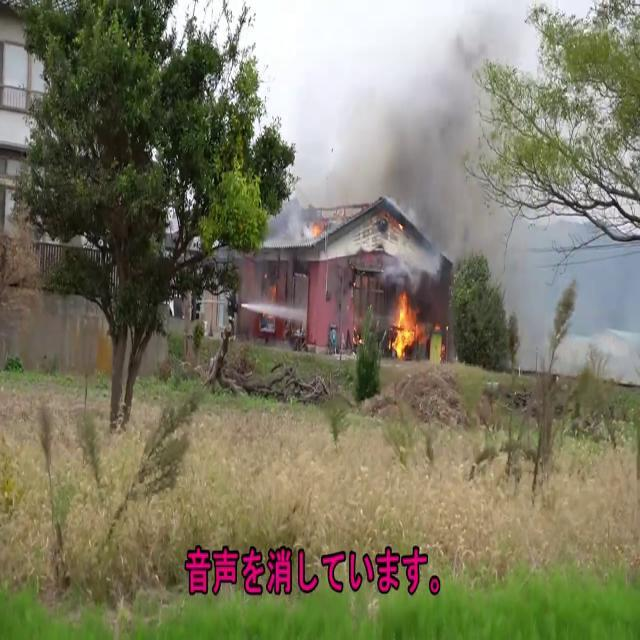Fire: (388, 284, 423, 361)
Smoke: (276, 7, 510, 256)
